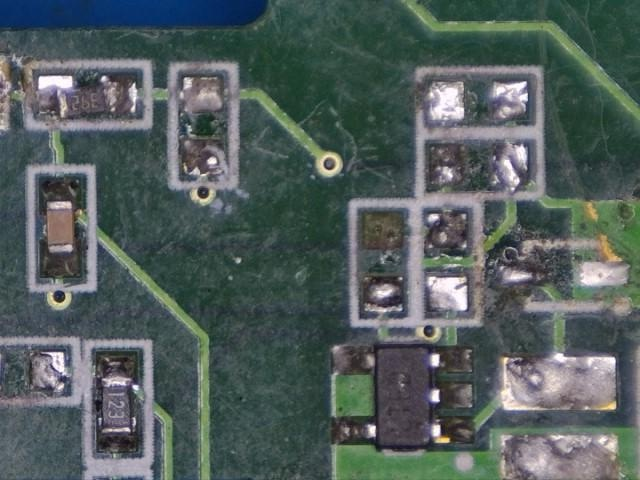pcb_defect: (37, 75, 137, 120)
